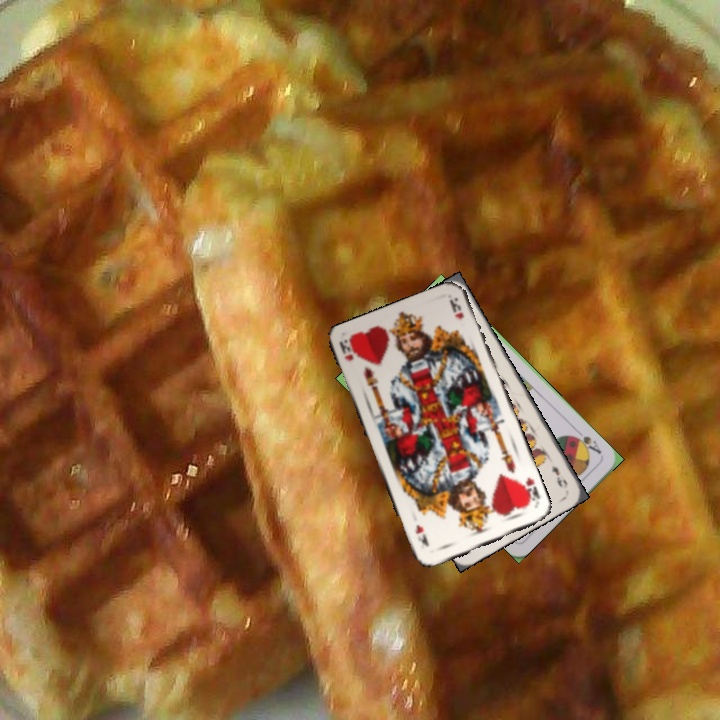E9: (548, 462, 570, 491)
HK: (516, 472, 543, 509), (335, 337, 357, 364)
SA: (568, 431, 604, 457)
